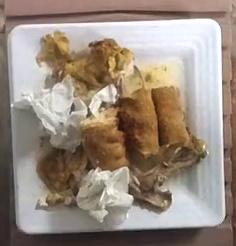pizza_crust: (77, 86, 191, 171)
unknown: (36, 32, 133, 104)
